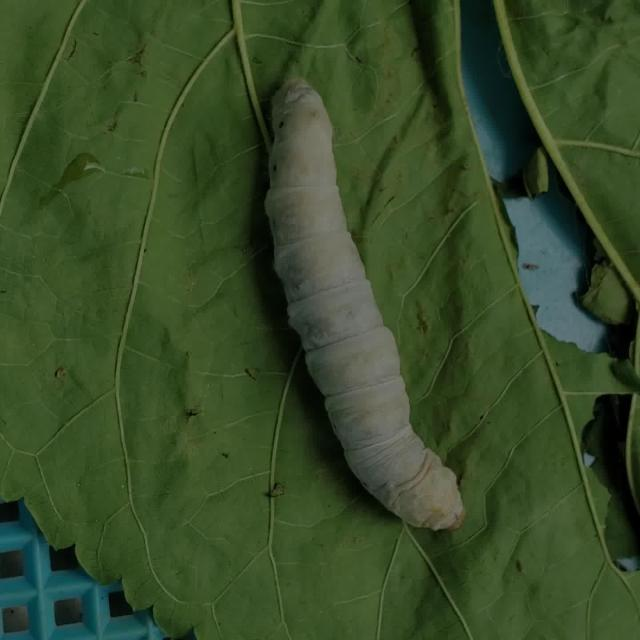Grasserie: (242, 57, 476, 561)
